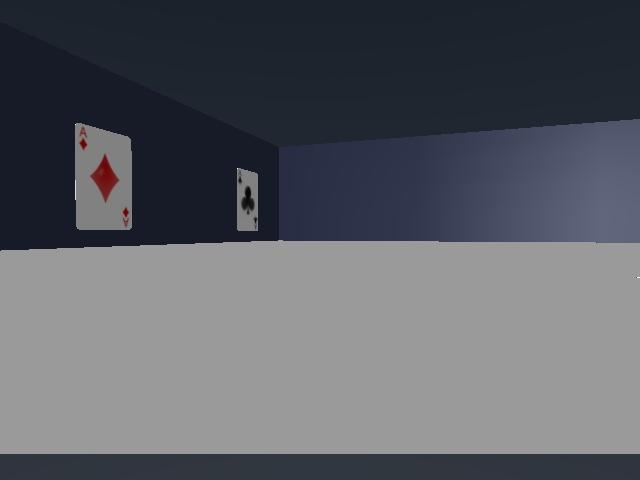club: (236, 169, 258, 230)
diamond: (75, 124, 131, 229)
